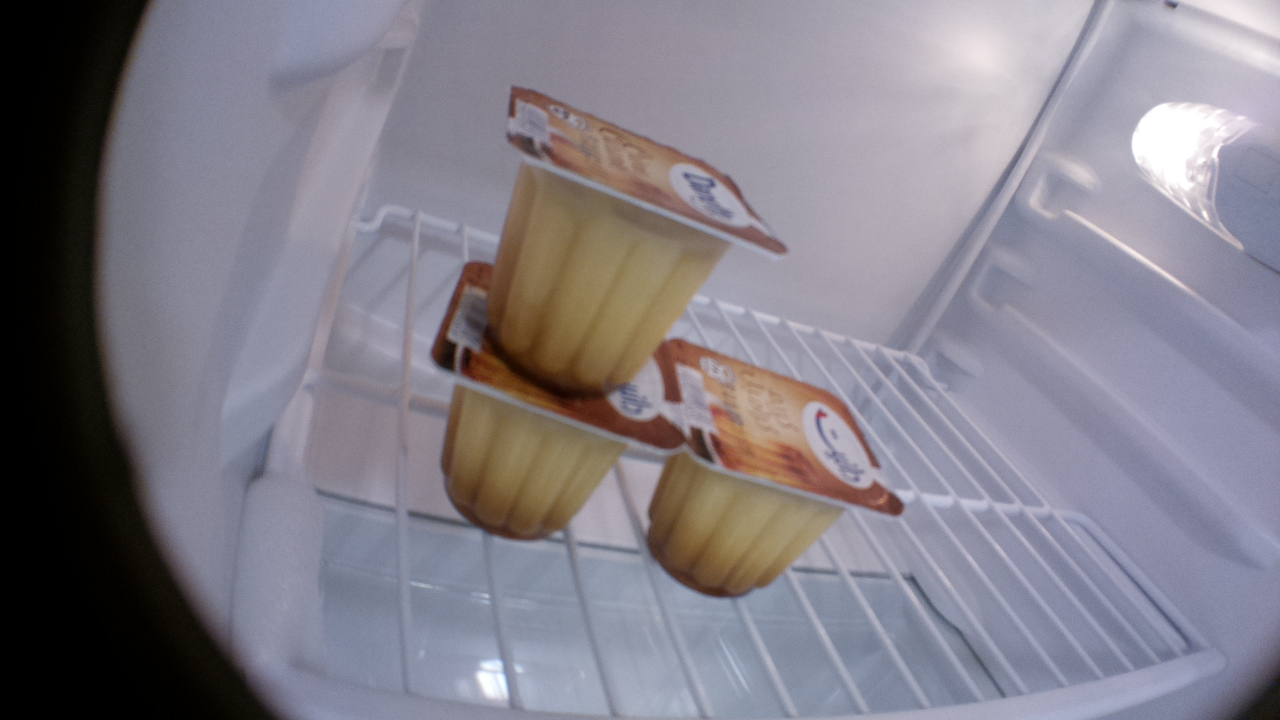caramel: (493, 76, 787, 399), (420, 257, 689, 541), (646, 336, 907, 603)
